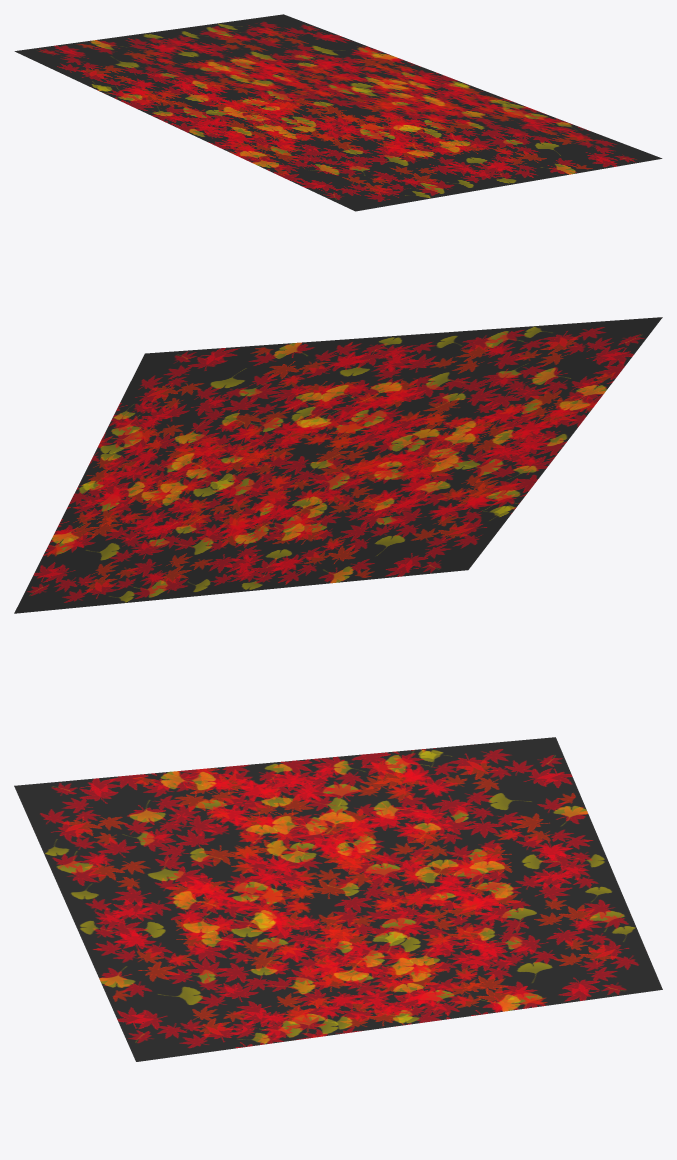
File: OBJ_CourseAki_CurveFloor_2_3.fbx
3 renders of one model, top to bottom at view 1: azimuth 30°, elevation 25°; view 2: azimuth 150°, elevation 25°; view 3: azimuth 270°, elevation 25°, orthographic. The views are drawn at different scales.
Parts seen in each view (by area): view 1: polySurface46; view 2: polySurface46; view 3: polySurface46.
Boxes of the visible parts, x1,y1,x2,y2 form: polySurface46: (14, 14, 662, 211); polySurface46: (14, 317, 662, 613); polySurface46: (14, 737, 662, 1061).
Size of the model in its own units: 6.19 by 2 by 7.03.
Materials: 1 (1 with a texture image).
